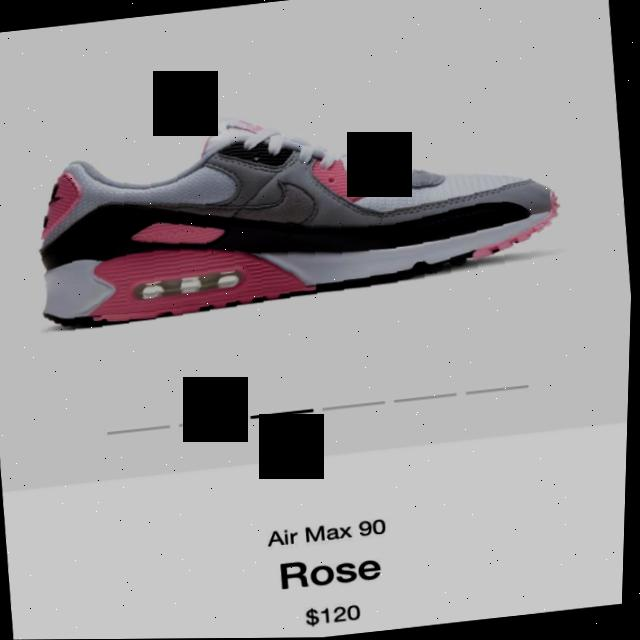shoe: (21, 71, 638, 370)
